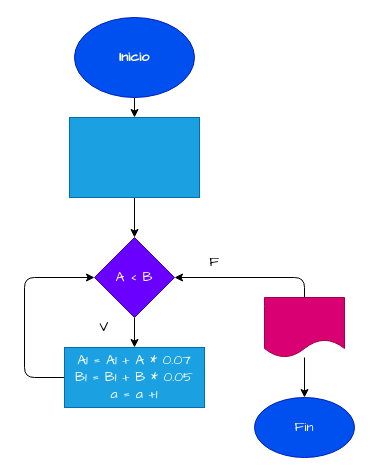
Some shapes in this 372 by 475 pixel diagram are drawn without their labels. Each missing label, with the centre of its shape:
A = 3,5 millones A1 = A B = 5 millones B1 = b a = 1980: point 134,157
a,A1,B1: point 304,327
